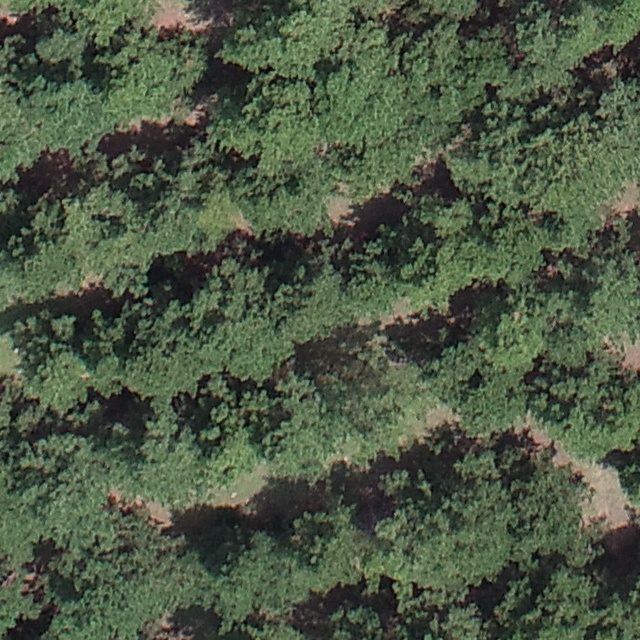unhealthy: (139, 612, 195, 640)
